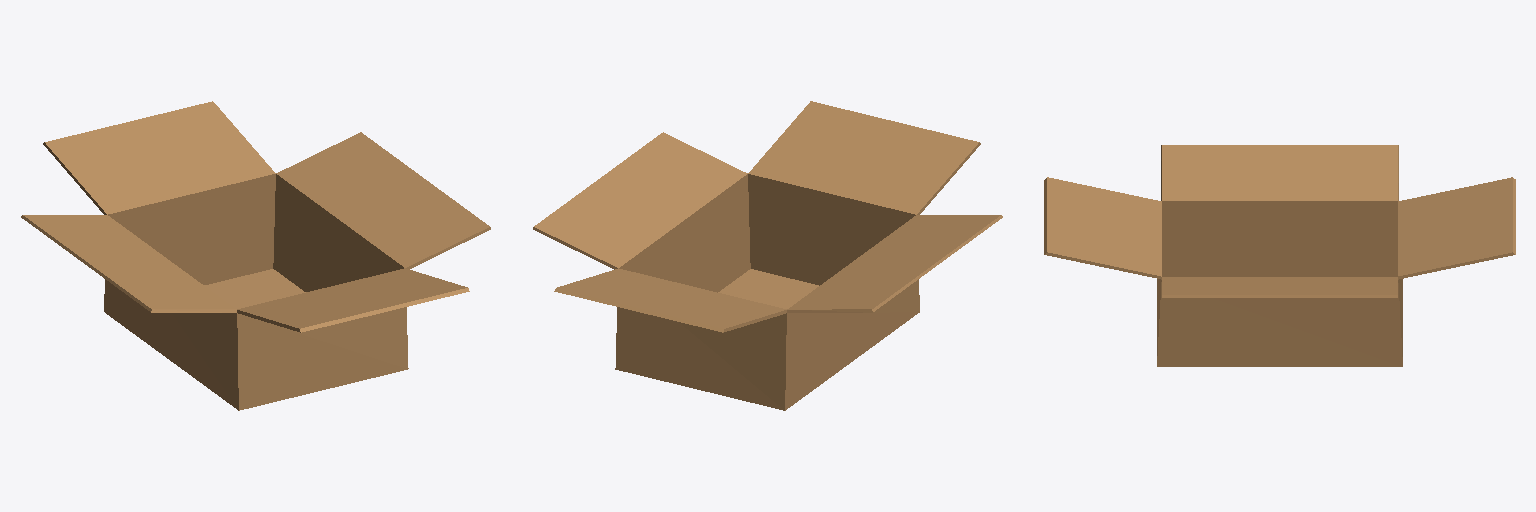
The robot description file, URDF, robot "box_search":
<?xml version="1.0"?>
<robot name="box_search">
    <link name="box">
        <visual>
            <geometry>
                <!-- <mesh filename="../mesh/TVB_mesh/box1_high.obj" scale="1.5 1.5 1.5"/>       -->
                <mesh filename="../mesh/TVB_mesh/box1_update2.obj" scale="1.2 1.8 1.2"/>                                             -->
            </geometry>
            <material name="CardboardYellow">
                <color rgba="0.76 0.6 0.42 1"/>
            </material>
        </visual>
        <collision>
            <geometry>
                <mesh filename="../mesh/TVB_mesh/box1_update2.obj" scale="1.2 1.8 1.2"/>              
            </geometry>
            <sdf resolution="128"/>
        </collision>
    </link>
</robot>

--- Render facts (derived) ---
3 views of the same robot in one strip: view 1: azimuth 30°, elevation 25°; view 2: azimuth 150°, elevation 25°; view 3: azimuth 270°, elevation 25° (orthographic).
Model box_search with 1 links and 0 joints (none), rooted at box, posed every joint at zero.
Links seen in each view (by area): view 1: box; view 2: box; view 3: box.
Link boxes in pixels (x1,y1,x2,y2): box: [21, 101, 490, 410]; box: [533, 101, 1002, 410]; box: [1044, 145, 1515, 366].
Size in the robot's own frame: 0.6568 by 0.861 by 0.2319 metres.
Meshes: 1 distinct files referenced, 1 mesh visuals loaded (1 OBJ).
